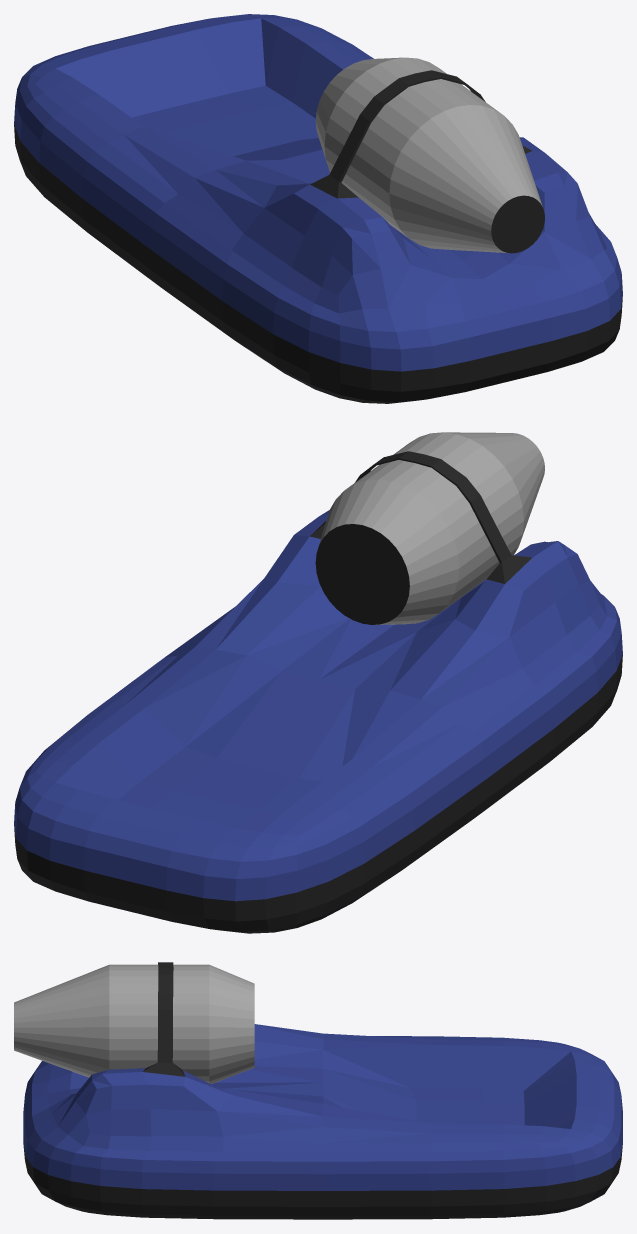
The model's file is rocket_craft_v1.1.fbx.
The picture shows the model from 3 angles, top to bottom: view 1: azimuth 30°, elevation 25°; view 2: azimuth 150°, elevation 25°; view 3: azimuth 270°, elevation 25°; orthographic projection. The views are drawn at different scales.
Visible parts, largest first — view 1: Cube; view 2: Cube; view 3: Cube.
Boxes of the visible parts, bbox=[...] form: Cube: bbox=[14, 14, 622, 403]; Cube: bbox=[14, 432, 622, 933]; Cube: bbox=[14, 962, 622, 1219].
Bounding box in the file's own units: 597 × 451 × 1215.
